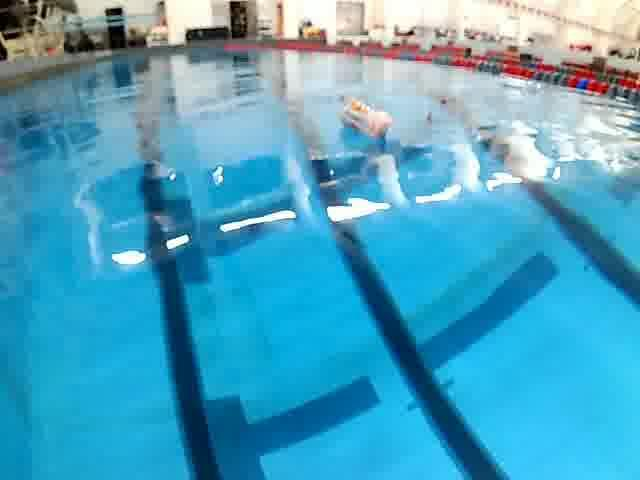Bottle: (332, 93, 408, 150)
